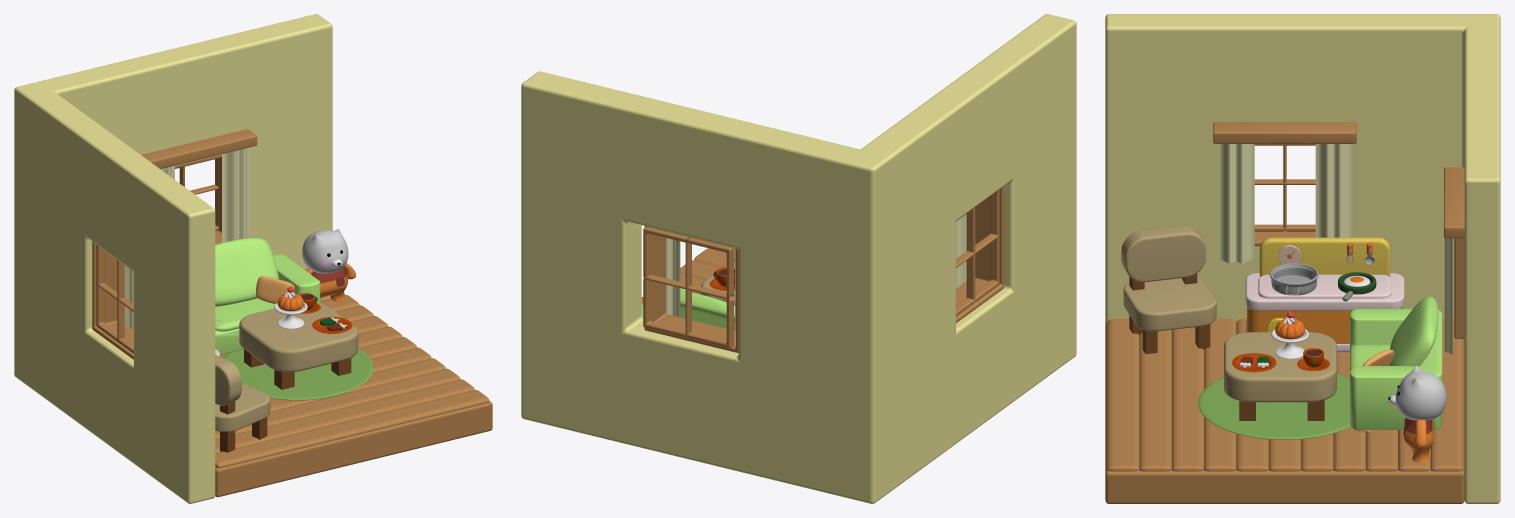
File: 10_room.glb
The picture shows the model from 3 angles, left to right: view 1: azimuth 30°, elevation 25°; view 2: azimuth 150°, elevation 25°; view 3: azimuth 270°, elevation 25°; orthographic projection. The views are drawn at different scales.
Visible parts, largest first — view 1: Cube, Cube.005, Cube.001, Cube.017, 円柱.012, Cube.032, 平面.001, Cube.008, 立方体.001, Cube.003, Cube.002, Cube.030 (+6 smaller); view 2: Cube, Cube.020, Cube.004, Cube.003, Cube.002, Cube.032, 平面.001, Cube.005, 平面; view 3: Cube, Cube.005, Cube.001, 平面, Cube.030, Cube.017, 円柱.012, Cube.015, Cube.018, Cube.019, Cube.025, Cube.008 (+14 smaller).
Boxes of the visible parts, left/top/right/bottom form: Cube: left=14, top=14, right=332, bottom=503; Cube.005: left=215, top=293, right=489, bottom=468; Cube.001: left=215, top=401, right=492, bottom=497; Cube.017: left=239, top=302, right=358, bottom=372; 円柱.012: left=223, top=348, right=373, bottom=400; Cube.032: left=215, top=237, right=278, bottom=306; 平面.001: left=160, top=147, right=250, bottom=242; Cube.008: left=302, top=229, right=355, bottom=301; 立方体.001: left=141, top=129, right=257, bottom=168; Cube.003: left=96, top=244, right=133, bottom=353; Cube.002: left=92, top=241, right=133, bottom=359; Cube.030: left=215, top=254, right=320, bottom=354; Cube: left=521, top=14, right=1076, bottom=503; Cube.020: left=643, top=227, right=733, bottom=348; Cube.004: left=644, top=226, right=738, bottom=352; Cube.003: left=956, top=189, right=999, bottom=315; Cube.002: left=956, top=186, right=1004, bottom=322; Cube.032: left=680, top=290, right=734, bottom=330; 平面.001: left=666, top=238, right=735, bottom=330; Cube.005: left=641, top=248, right=734, bottom=303; 平面: left=956, top=214, right=966, bottom=288; Cube: left=1105, top=14, right=1500, bottom=503; Cube.005: left=1107, top=318, right=1463, bottom=471; Cube.001: left=1105, top=323, right=1464, bottom=503; 平面: left=1217, top=144, right=1352, bottom=263; Cube.030: left=1350, top=308, right=1442, bottom=429; Cube.017: left=1224, top=332, right=1336, bottom=402; 円柱.012: left=1198, top=374, right=1350, bottom=439; Cube.015: left=1245, top=273, right=1404, bottom=310; Cube.018: left=1123, top=277, right=1216, bottom=331; Cube.019: left=1121, top=226, right=1205, bottom=282; Cube.025: left=1259, top=237, right=1390, bottom=276; Cube.008: left=1388, top=366, right=1446, bottom=462.
Size of the model in its own units: 6.71 by 6.06 by 6.66.
38 materials, 1 textured.
